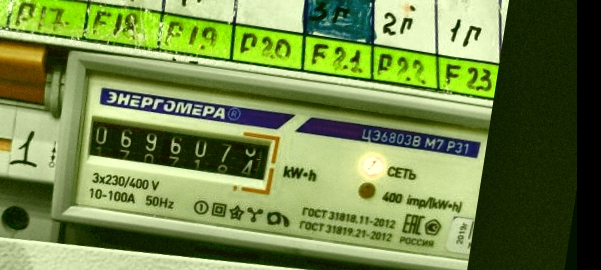0: (191, 135, 209, 159), (92, 123, 109, 146)
4: (239, 156, 255, 179)
6: (117, 126, 134, 149), (167, 134, 183, 155)
7: (216, 141, 234, 164)
9: (142, 130, 158, 152)
screen: (72, 104, 285, 194)
